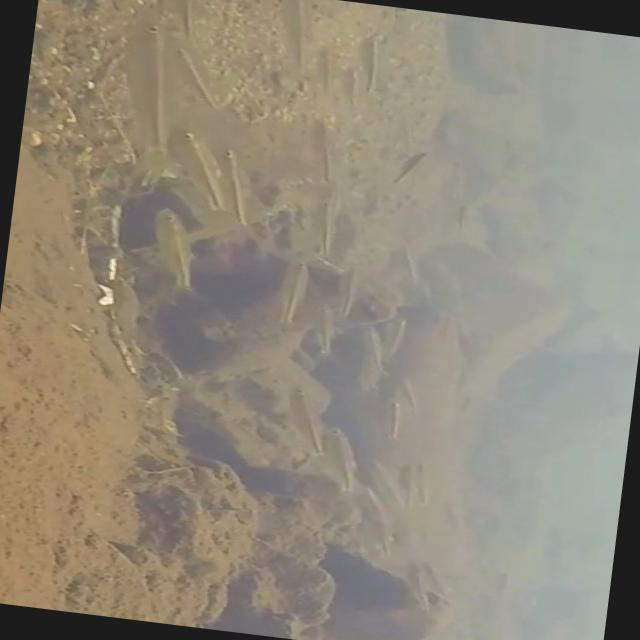Cakil Baligi: (102, 16, 192, 176), (136, 204, 204, 298), (278, 385, 338, 460)
